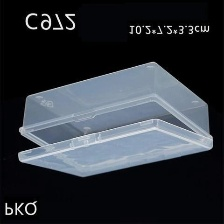plastic_box: (9, 55, 218, 185)
